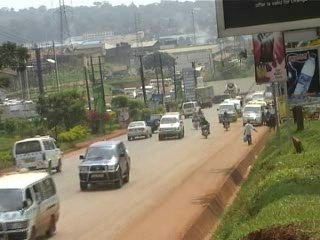Car: (76, 138, 135, 191), (155, 111, 186, 143), (125, 117, 153, 142), (145, 112, 163, 132)
Motorcycle: (198, 117, 211, 138), (220, 110, 231, 131), (187, 113, 199, 128), (195, 108, 204, 125)
